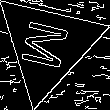M_E: (18, 17, 77, 73)
